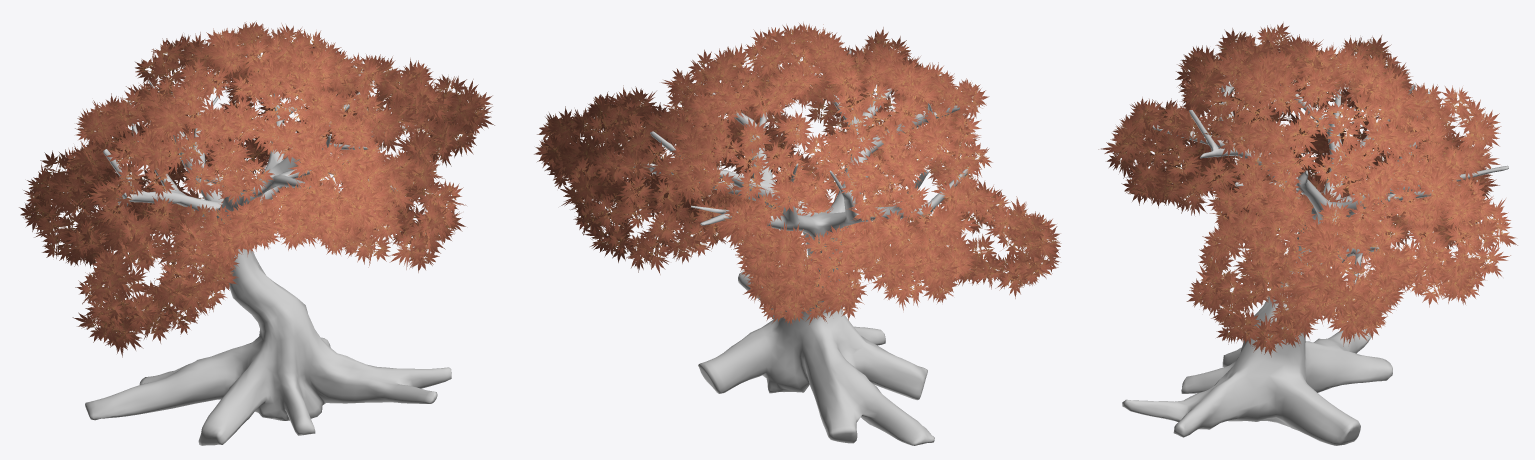
The model's file is radtree.fbx.
3 renders of one model, left to right at view 1: azimuth 30°, elevation 25°; view 2: azimuth 150°, elevation 25°; view 3: azimuth 270°, elevation 25°, orthographic. The views are drawn at different scales.
Parts seen in each view (by area): view 1: radtree_leaf, radtree_trunk_low; view 2: radtree_leaf, radtree_trunk_low; view 3: radtree_leaf, radtree_trunk_low.
Part boxes in pixels (left/top/right/bottom): radtree_leaf: left=19, top=21, right=494, bottom=357; radtree_trunk_low: left=85, top=79, right=451, bottom=445; radtree_leaf: left=534, top=22, right=1061, bottom=324; radtree_trunk_low: left=633, top=49, right=968, bottom=445; radtree_leaf: left=1098, top=22, right=1517, bottom=357; radtree_trunk_low: left=1122, top=79, right=1508, bottom=445.
Bounding box in the file's own units: 2532 × 1888 × 1942.
